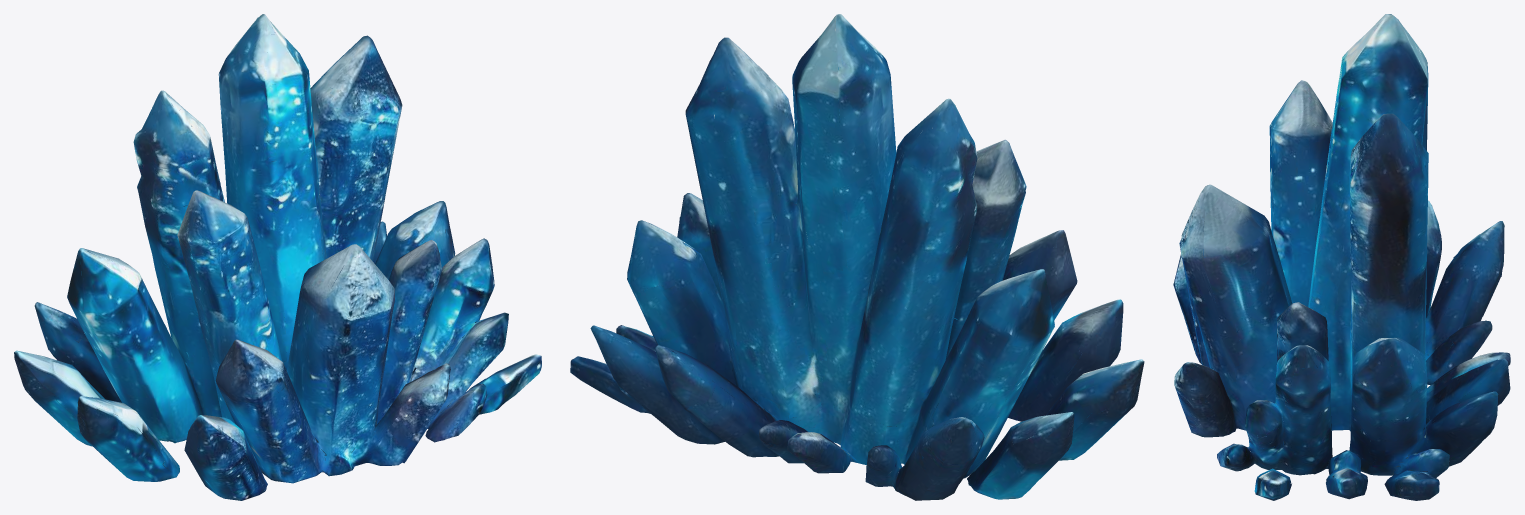
The model's file is crystal_cache.glb.
3 renders of one model, left to right at view 1: azimuth 30°, elevation 25°; view 2: azimuth 150°, elevation 25°; view 3: azimuth 270°, elevation 25°, orthographic. The views are drawn at different scales.
Parts seen in each view (by area): view 1: model_0; view 2: model_0; view 3: model_0.
Part boxes in pixels (x1=…): model_0: x1=14, y1=14, x2=541, y2=500; model_0: x1=570, y1=14, x2=1144, y2=500; model_0: x1=1173, y1=14, x2=1510, y2=500.
Size of the model in its own units: 1.78 by 1.47 by 1.13.
Materials: 1 (1 with a texture image).
